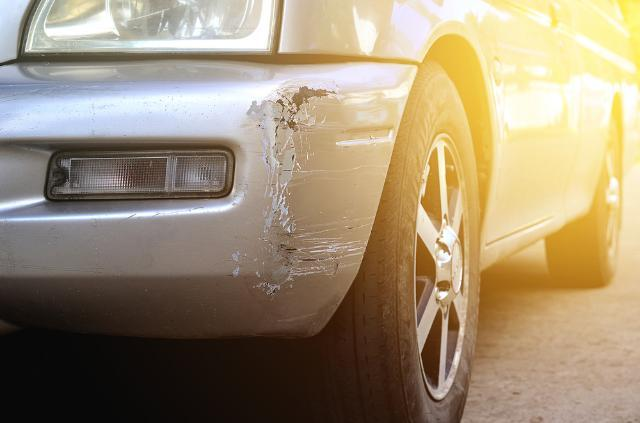rub: (228, 79, 398, 298)
